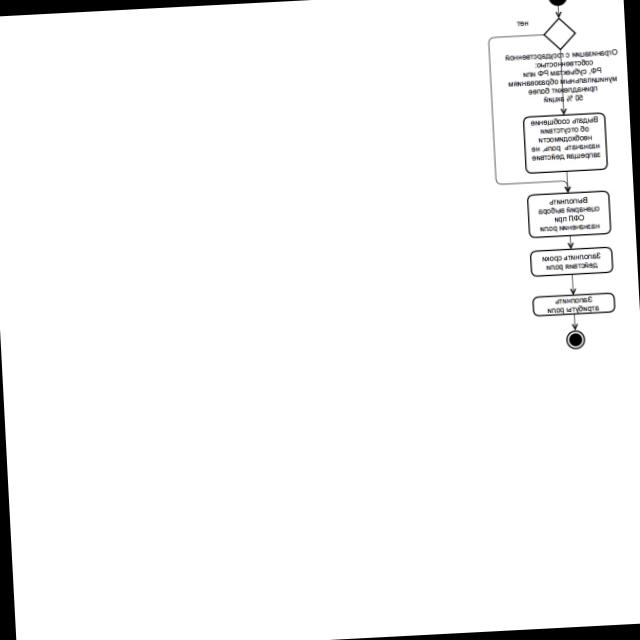arrow: (481, 30, 573, 198), (557, 51, 568, 116), (567, 273, 581, 296), (563, 236, 578, 250), (570, 312, 581, 331), (563, 172, 573, 192), (554, 5, 561, 18)
circle: (564, 330, 585, 351), (549, 0, 565, 6)
diamond: (542, 17, 576, 51)
rectangle: (522, 112, 607, 174), (527, 190, 610, 238), (529, 247, 612, 277), (532, 292, 615, 317)
text_region: (500, 45, 625, 108), (514, 16, 536, 31)
